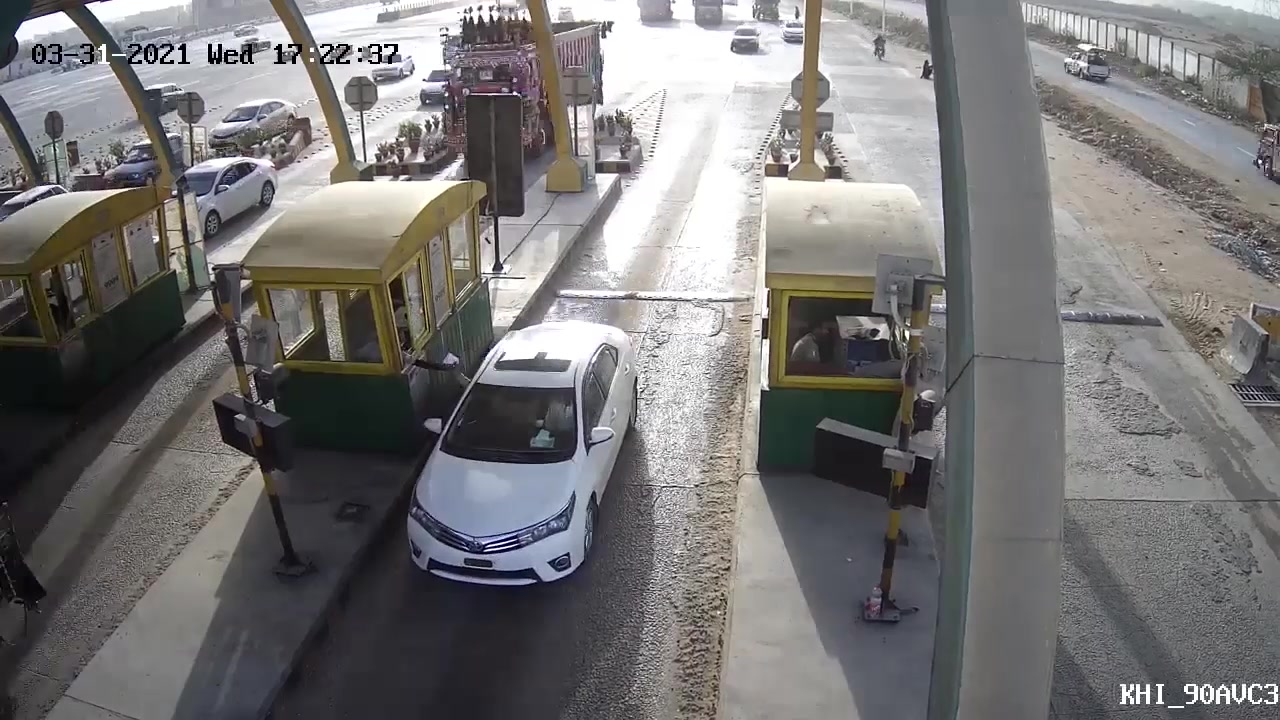F1: (385, 312, 663, 608)
